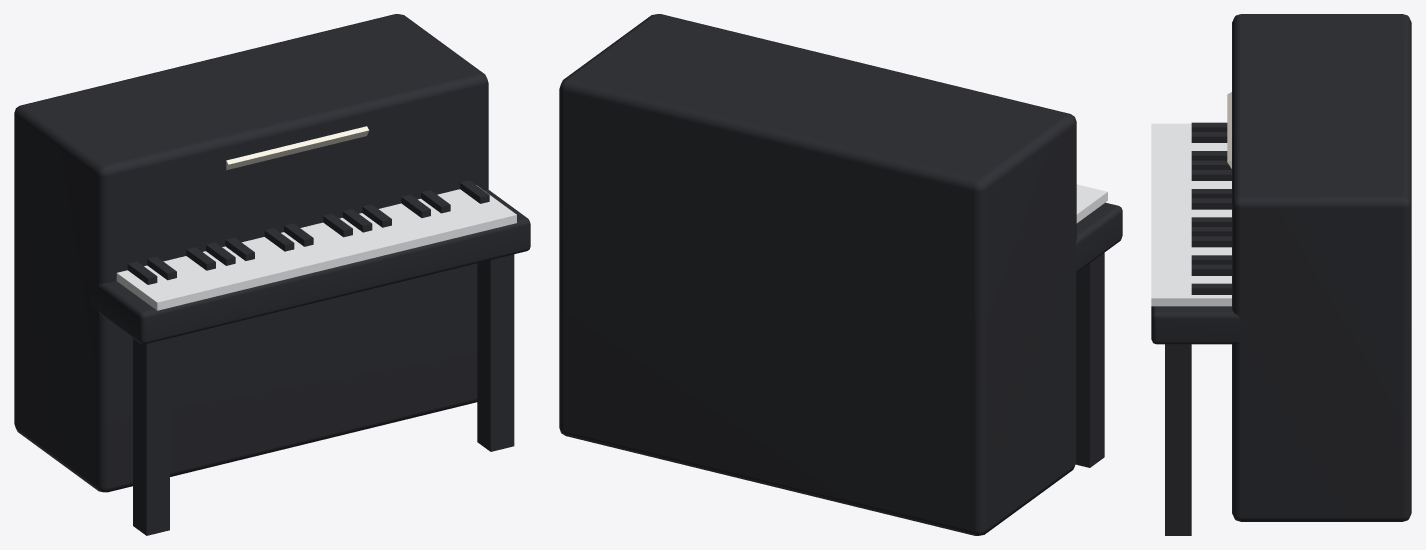
File: Piano.fbx
3 renders of one model, left to right at view 1: azimuth 30°, elevation 25°; view 2: azimuth 150°, elevation 25°; view 3: azimuth 270°, elevation 25°, orthographic. The views are drawn at different scales.
Parts seen in each view (by area): view 1: Piano; view 2: Piano; view 3: Piano.
Boxes of the visible parts, left/top/right/bottom form: Piano: left=14, top=14, right=530, bottom=535; Piano: left=559, top=14, right=1122, bottom=535; Piano: left=1151, top=14, right=1411, bottom=535.
Size of the model in its own units: 5 by 4.2 by 2.9.
1 material, 1 textured.
